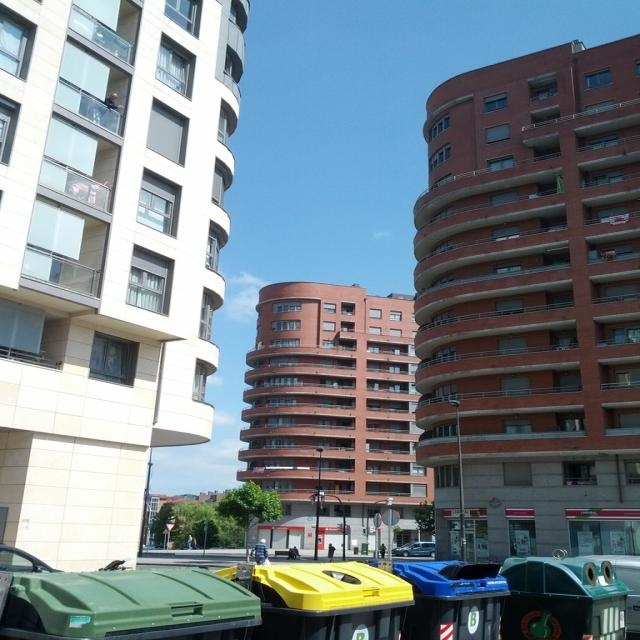car: (392, 542, 436, 555)
